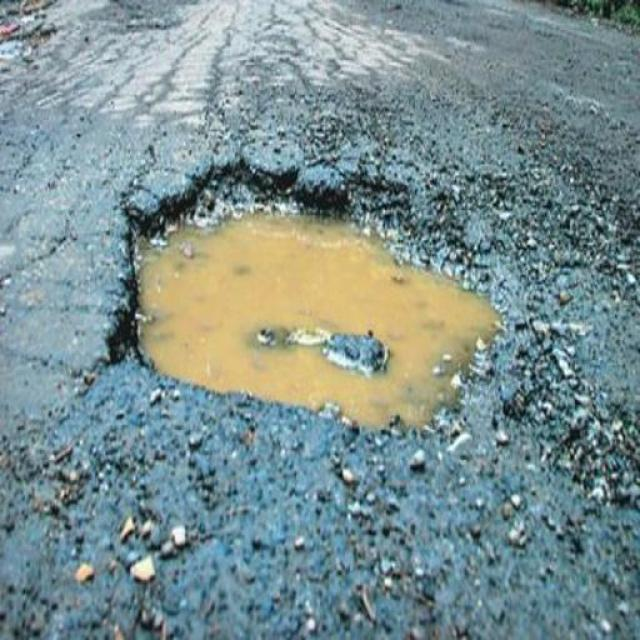puddle: (145, 222, 460, 411)
